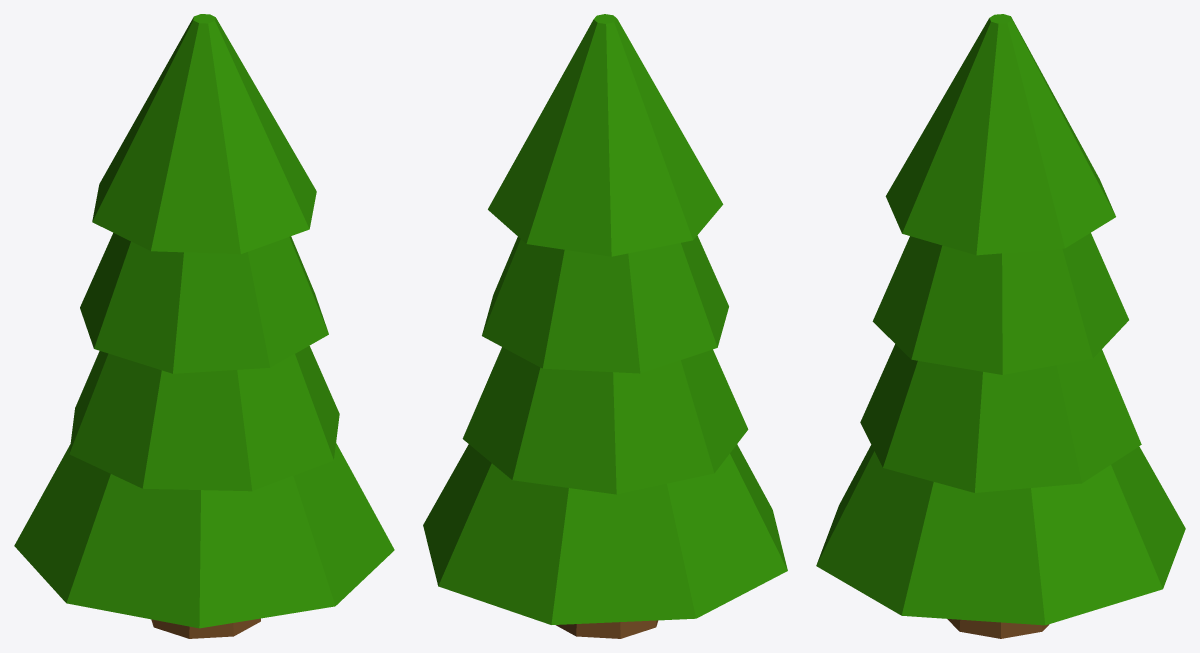
File: TreeLOD2.fbx
3 views of the same model, side by side, from view 1: azimuth 30°, elevation 25°; view 2: azimuth 150°, elevation 25°; view 3: azimuth 270°, elevation 25° (orthographic).
Parts seen in each view (by area): view 1: Cylinder.008; view 2: Cylinder.008; view 3: Cylinder.008.
Boxes of the visible parts, x1=… form: Cylinder.008: x1=14, y1=14, x2=394, y2=638; Cylinder.008: x1=423, y1=14, x2=787, y2=638; Cylinder.008: x1=816, y1=14, x2=1185, y2=638.
Bounding box in the file's own units: 451 × 802 × 451.
